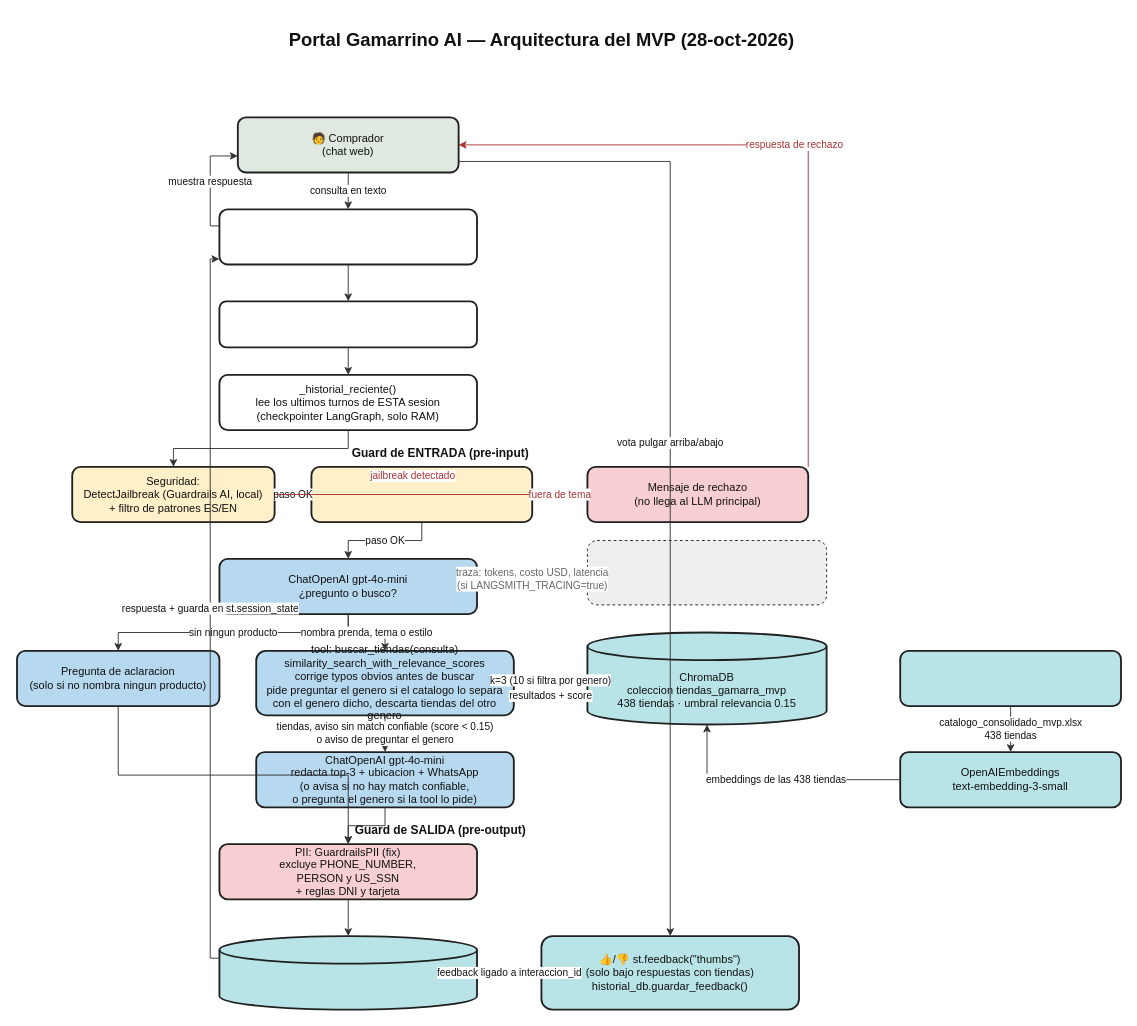
Some shapes in this 1137 by 1026 pixel diagram are drawn without their labels. The box of each missing label's shape, as (x1, y1, x2, y2) in pixels:
01_indexar_catalogo.py (offline, se corre 1 vez): (899, 650, 1121, 707)
agente.responder_detallado(mensaje, session_id): (218, 300, 477, 348)
app.py Streamlit — session_id por pestaña: (218, 208, 477, 265)
historial_db.guardar_interaccion() SQLite: historial.db: (218, 935, 477, 1010)
LangSmith smith.langchain.com proyecto: mvp-portal-gamarrino: (586, 540, 827, 605)
Relevancia: clasificador LLM barato (usa el historial): (310, 466, 533, 523)
